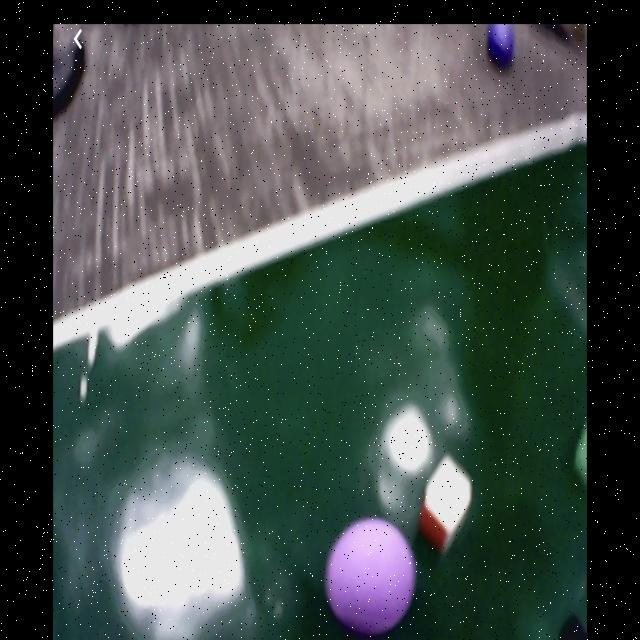ball: (329, 520, 415, 637), (487, 26, 516, 70)
